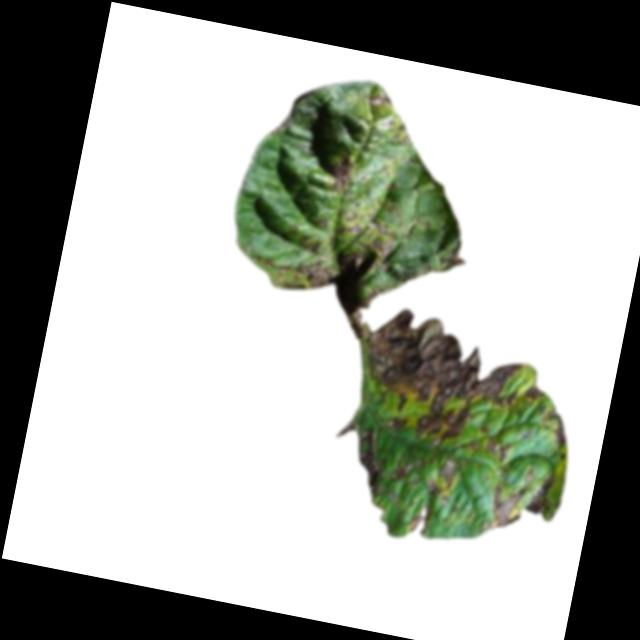Early_blight: (351, 301, 534, 459), (259, 195, 406, 306), (324, 421, 393, 499), (484, 475, 528, 535), (524, 466, 560, 517), (323, 152, 355, 194), (389, 451, 424, 489), (549, 411, 574, 461), (405, 500, 436, 539), (436, 454, 463, 490), (482, 437, 513, 465), (524, 383, 546, 401), (424, 478, 443, 496), (367, 89, 386, 106)
